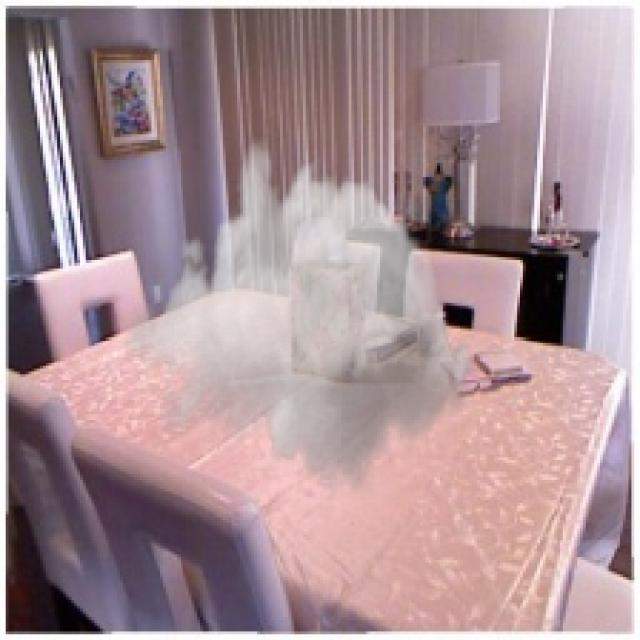Smoke: (126, 134, 477, 500)
